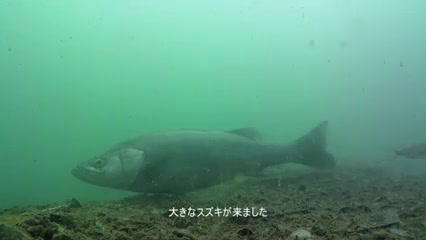suzuki: (68, 124, 342, 190)
